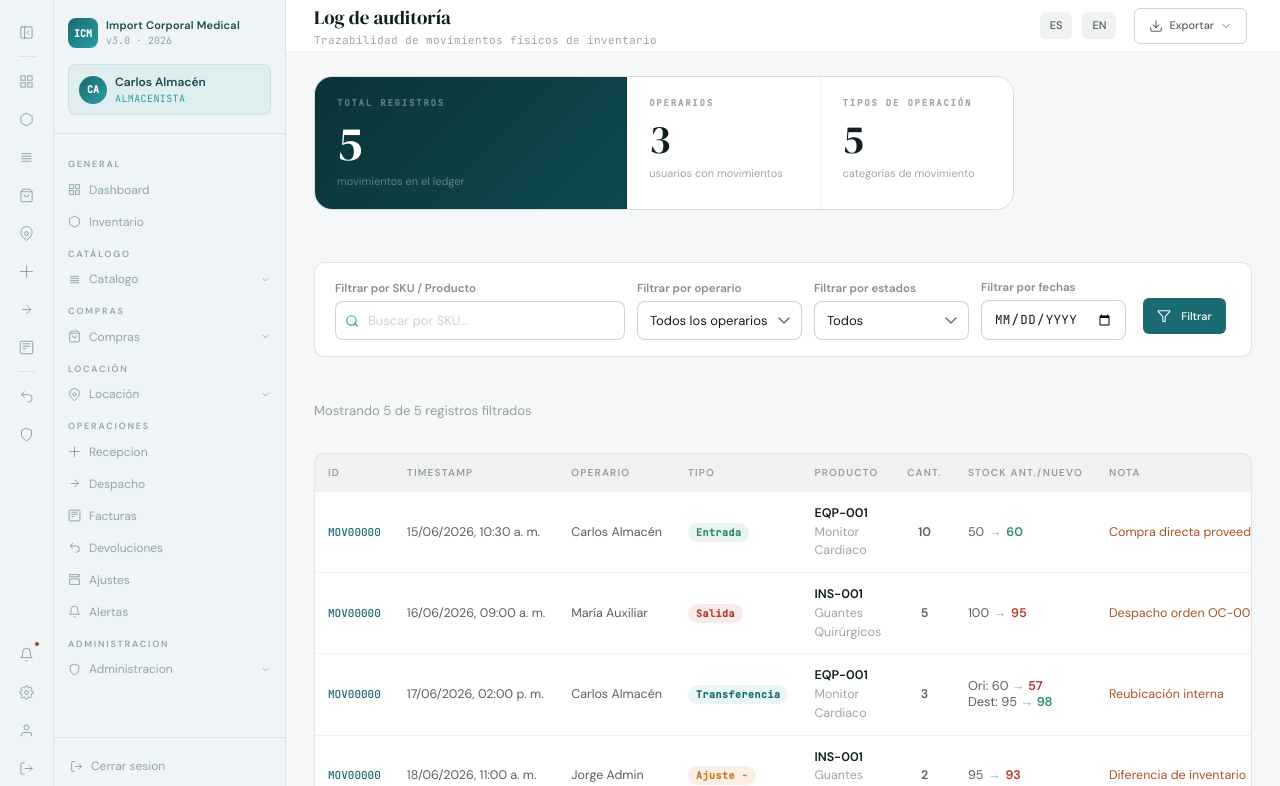
Test: AuditPage — integración › Búsqueda y filtros › debería filtrar por SKU
The image size is (1280, 786).
Type "EQP-001" into the field with placeholder "Buscar por SKU…". click: (480, 321)
box: [335,301,625,340]
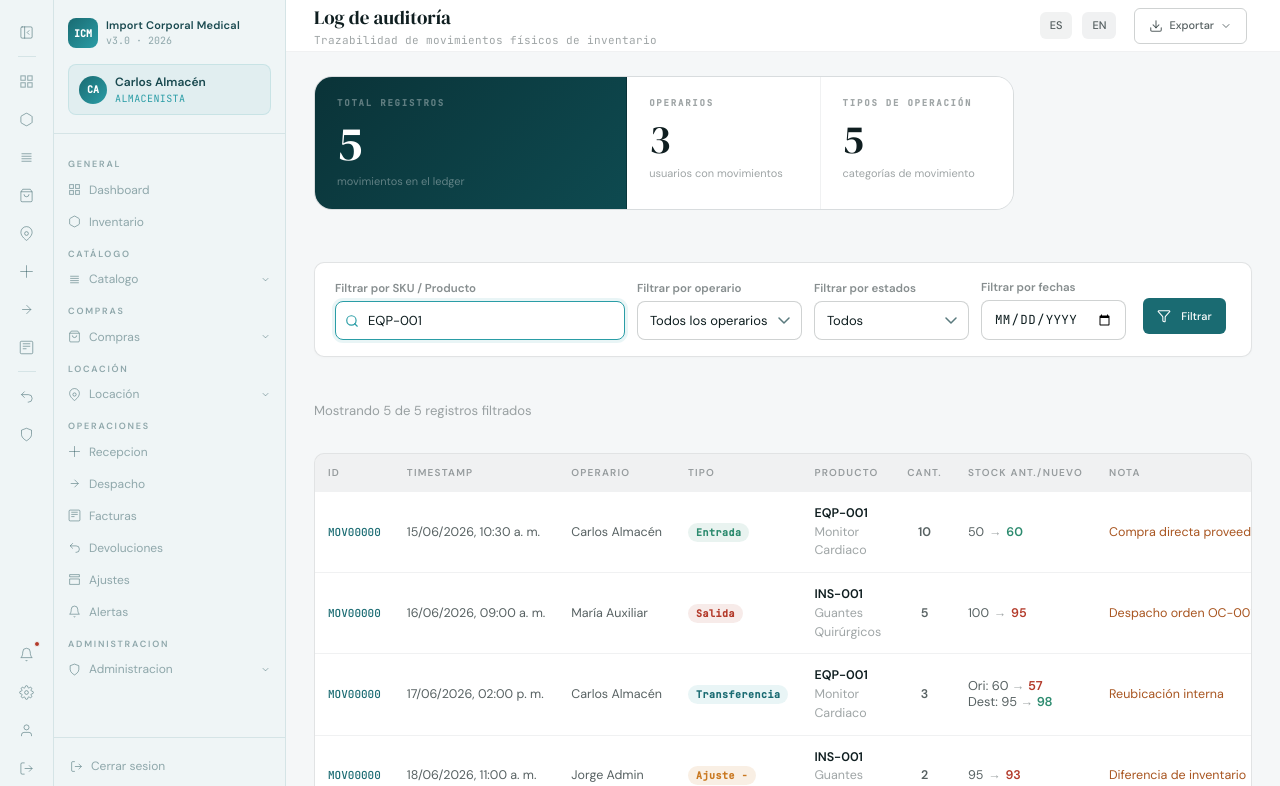
Submit the form with placeholder "Buscar por SKU…", box [335,279,1231,340]
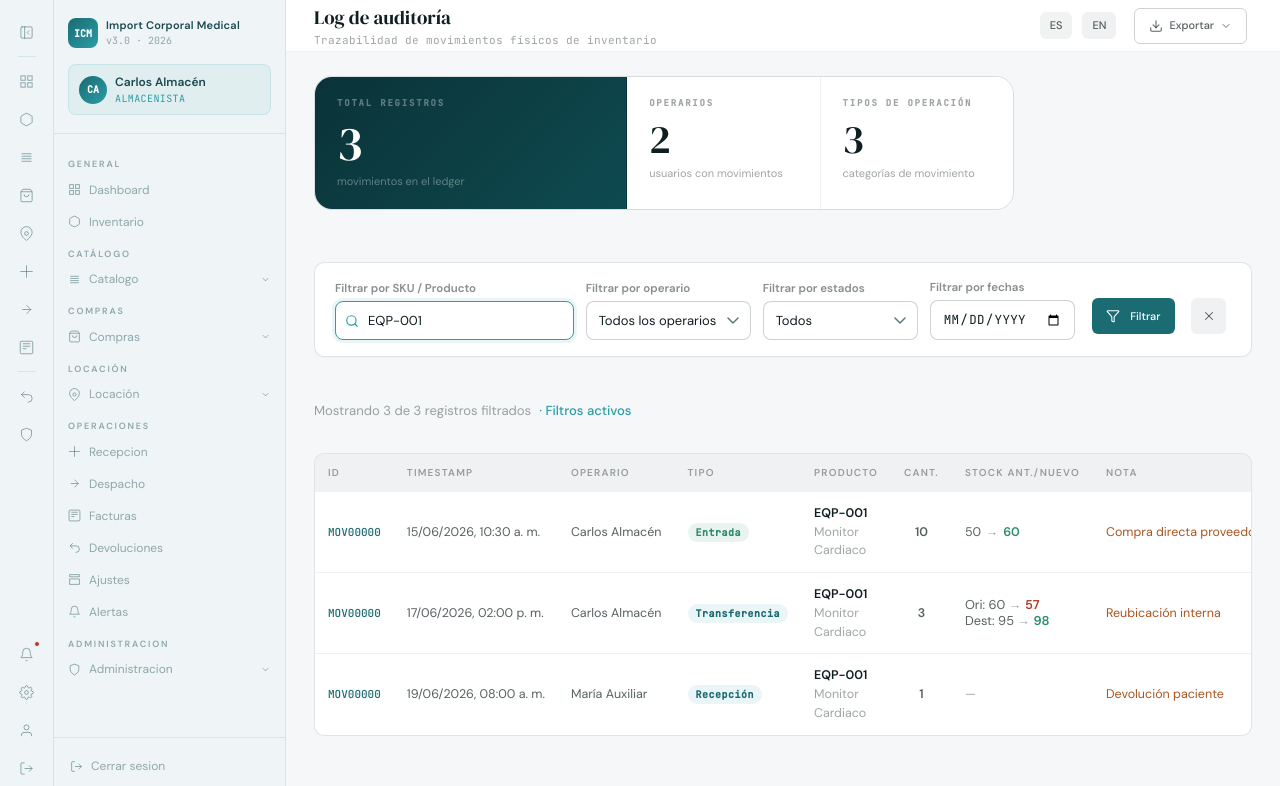
Expected: the text "· Filtros activos" is shown, [539,402,632,419]
